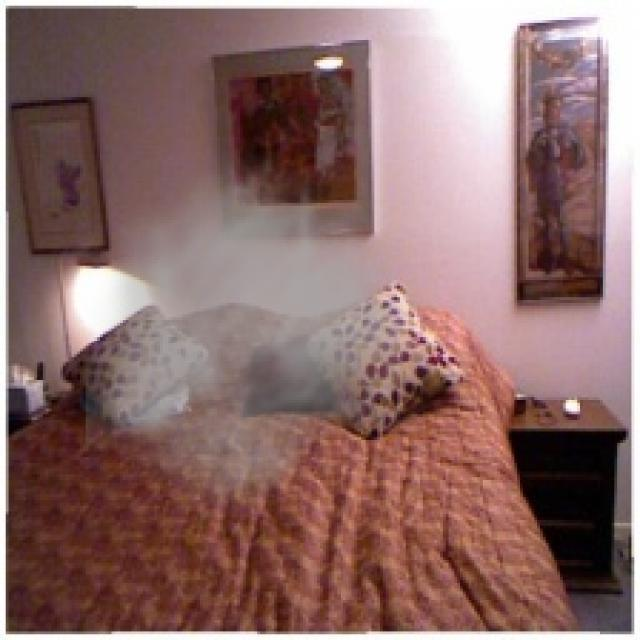Smoke: (86, 143, 448, 526)
